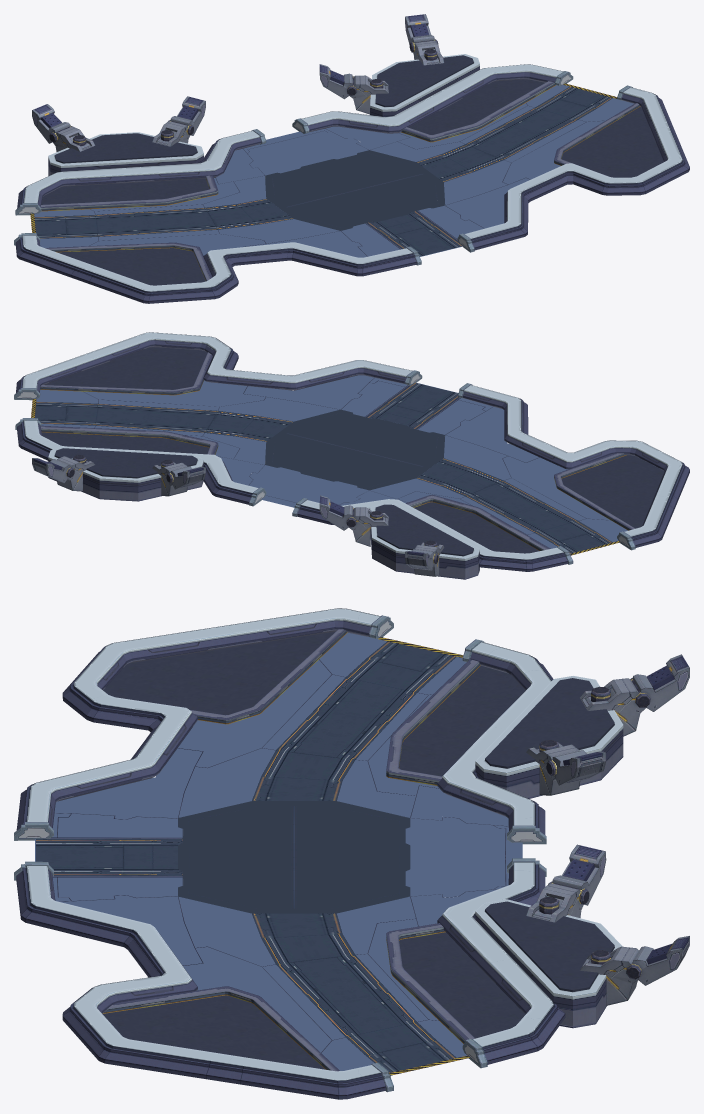
The model's file is Scece_01_pingta02.FBX.
3 views of the same model, one above another, from view 1: azimuth 30°, elevation 25°; view 2: azimuth 150°, elevation 25°; view 3: azimuth 270°, elevation 25° (orthographic). The views are drawn at different scales.
Visible parts, largest first — view 1: Scece_01_pingta02_04, Scece_01_pingta02_02, Scece_01_pingta02_01, Scece_01_pingta02_03; view 2: Scece_01_pingta02_04, Scece_01_pingta02_02, Scece_01_pingta02_01, Scece_01_pingta02_03; view 3: Scece_01_pingta02_04, Scece_01_pingta02_02, Scece_01_pingta02_01, Scece_01_pingta02_03.
Part boxes in pixels (left/top/right/bottom): Scece_01_pingta02_04: left=14, top=54, right=689, bottom=303; Scece_01_pingta02_02: left=34, top=85, right=633, bottom=257; Scece_01_pingta02_01: left=41, top=55, right=663, bottom=285; Scece_01_pingta02_03: left=32, top=14, right=444, bottom=151; Scece_01_pingta02_04: left=14, top=332, right=689, bottom=579; Scece_01_pingta02_02: left=36, top=375, right=627, bottom=548; Scece_01_pingta02_01: left=41, top=347, right=664, bottom=556; Scece_01_pingta02_03: left=32, top=455, right=444, bottom=576; Scece_01_pingta02_04: left=14, top=608, right=623, bottom=1099; Scece_01_pingta02_02: left=35, top=633, right=522, bottom=1070; Scece_01_pingta02_01: left=102, top=631, right=614, bottom=1069; Scece_01_pingta02_03: left=526, top=654, right=689, bottom=1005.
Size of the model in its own units: 23.52 by 2.3 by 13.94.
4 materials, 4 textured.
